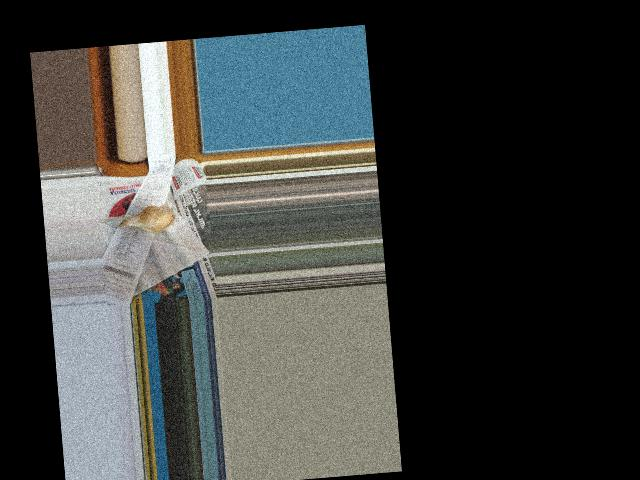onion: (124, 206, 174, 234)
